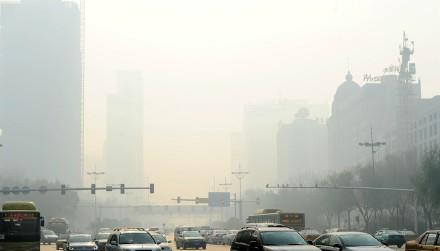bus: (244, 205, 305, 241), (1, 200, 44, 251), (47, 216, 70, 239)
car: (229, 221, 320, 251), (310, 229, 397, 251), (105, 226, 160, 251), (405, 227, 440, 249), (62, 233, 97, 251), (142, 230, 172, 251), (175, 230, 205, 250), (374, 226, 402, 246), (92, 231, 118, 251), (35, 228, 60, 246), (206, 228, 227, 243)
